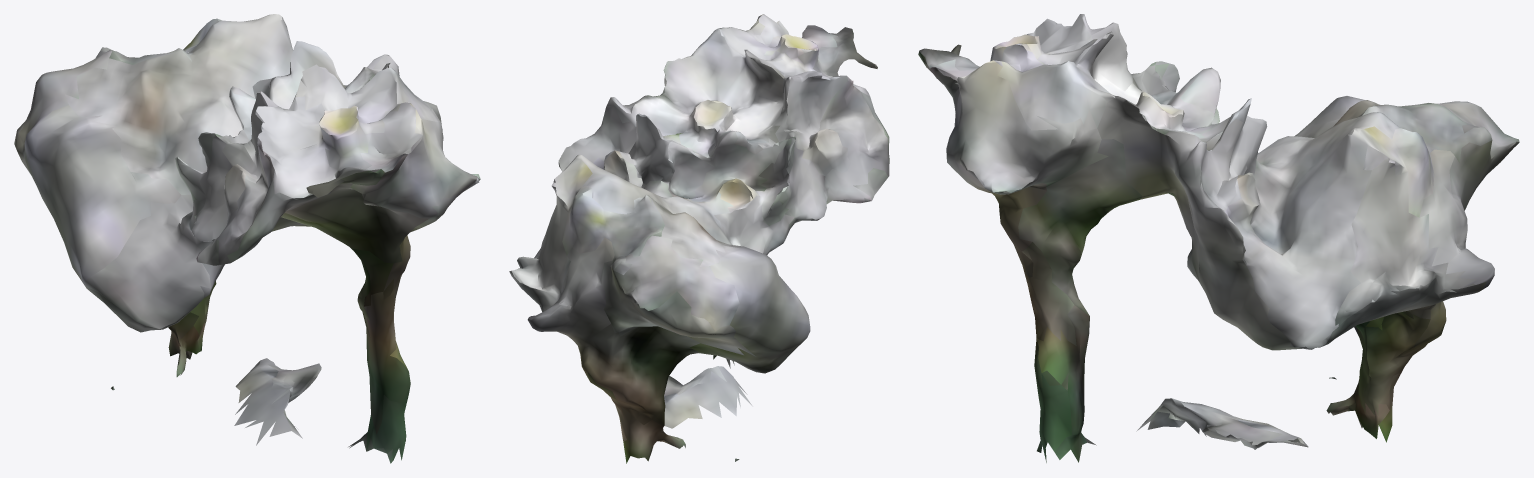
3 renders of one model, left to right at view 1: azimuth 30°, elevation 25°; view 2: azimuth 150°, elevation 25°; view 3: azimuth 270°, elevation 25°, orthographic. The views are drawn at different scales.
Visible parts, largest first — view 1: 8088f78d; view 2: 8088f78d; view 3: 8088f78d.
Boxes of the visible parts, x1,y1,x2,y2 form: 8088f78d: (14, 14, 480, 463); 8088f78d: (509, 14, 889, 463); 8088f78d: (918, 14, 1519, 462).
Bounding box in the file's own units: 0.1091 × 0.127 × 0.17.
Materials: 1 (1 with a texture image).
